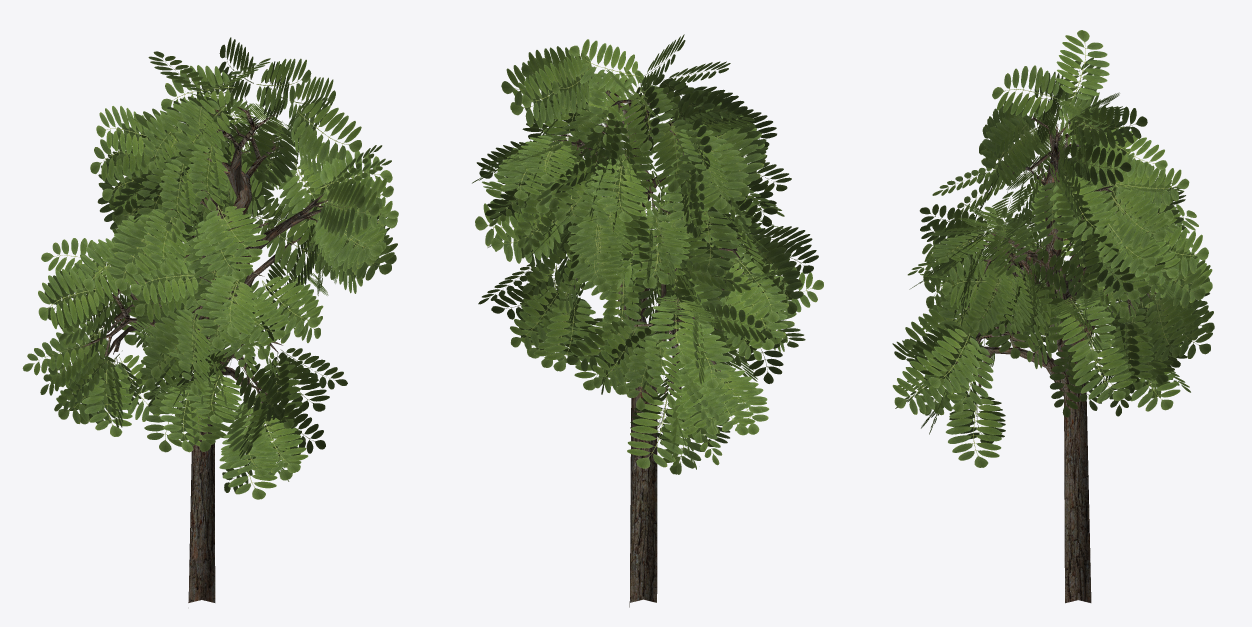
Rendered from tree2.glb.
3 renders of one model, left to right at view 1: azimuth 30°, elevation 25°; view 2: azimuth 150°, elevation 25°; view 3: azimuth 270°, elevation 25°, orthographic. The views are drawn at different scales.
Visible parts, largest first — view 1: _MeshInstance3D_366; view 2: _MeshInstance3D_366; view 3: _MeshInstance3D_366.
Part boxes in pixels (x1,y1,x2,y2): _MeshInstance3D_366: (22,37,398,602); _MeshInstance3D_366: (472,34,823,607); _MeshInstance3D_366: (892,30,1214,603).
Size of the model in its own units: 4.81 by 7.89 by 4.59.
2 materials, 2 textured.
